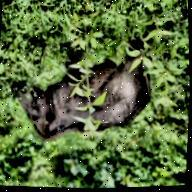boar: (2, 23, 172, 155)
